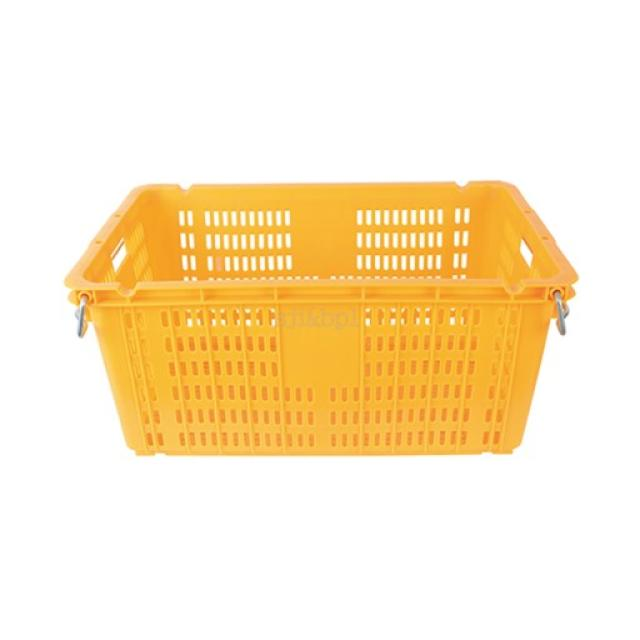basket: (66, 181, 580, 458)
